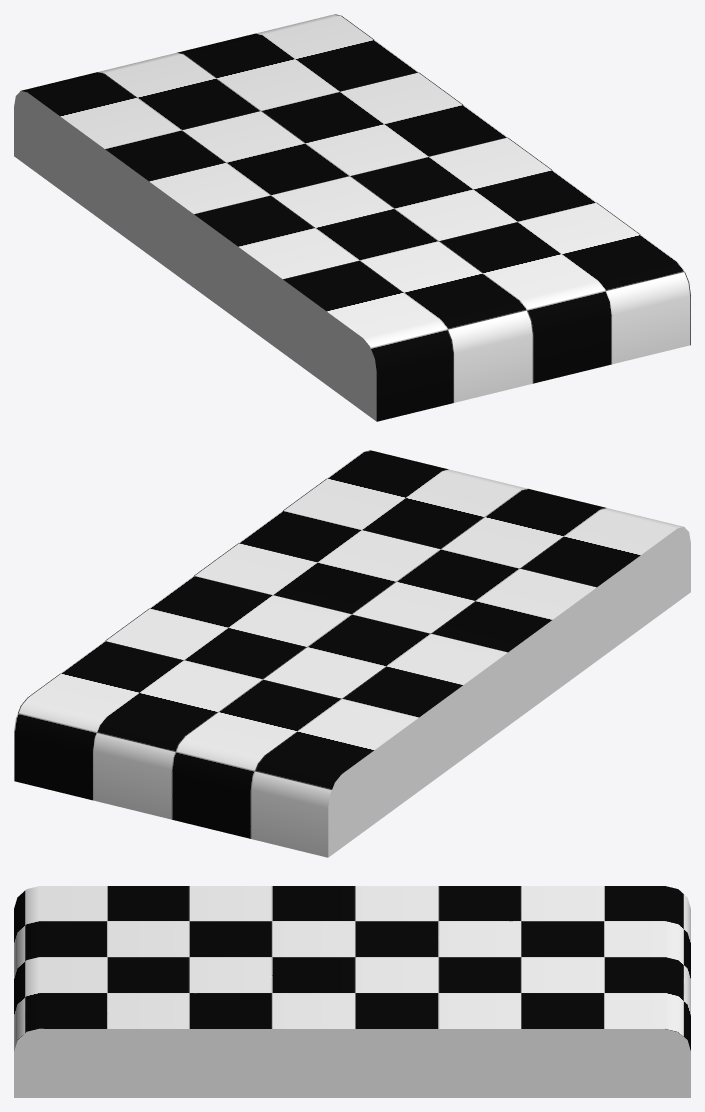
File: FinishLine.fbx
3 views of the same model, one above another, from view 1: azimuth 30°, elevation 25°; view 2: azimuth 150°, elevation 25°; view 3: azimuth 270°, elevation 25° (orthographic). The views are drawn at different scales.
Visible parts, largest first — view 1: FinishLine; view 2: FinishLine; view 3: FinishLine.
Part boxes in pixels (<box>): FinishLine: <box>14,14,690,421</box>; FinishLine: <box>14,450,690,857</box>; FinishLine: <box>14,886,690,1097</box>.
Size of the model in its own units: 150 by 33.61 by 300.
Materials: 1 (1 with a texture image).
